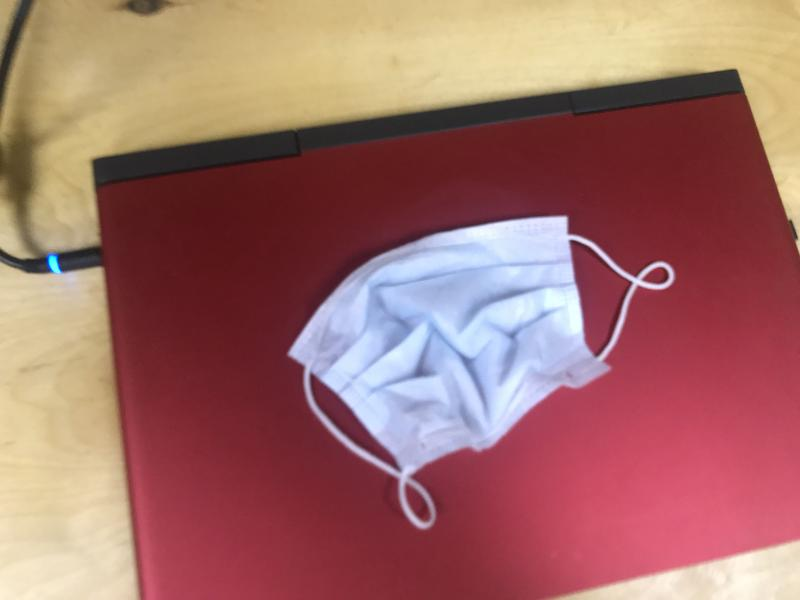medical_mask: (287, 214, 676, 534)
